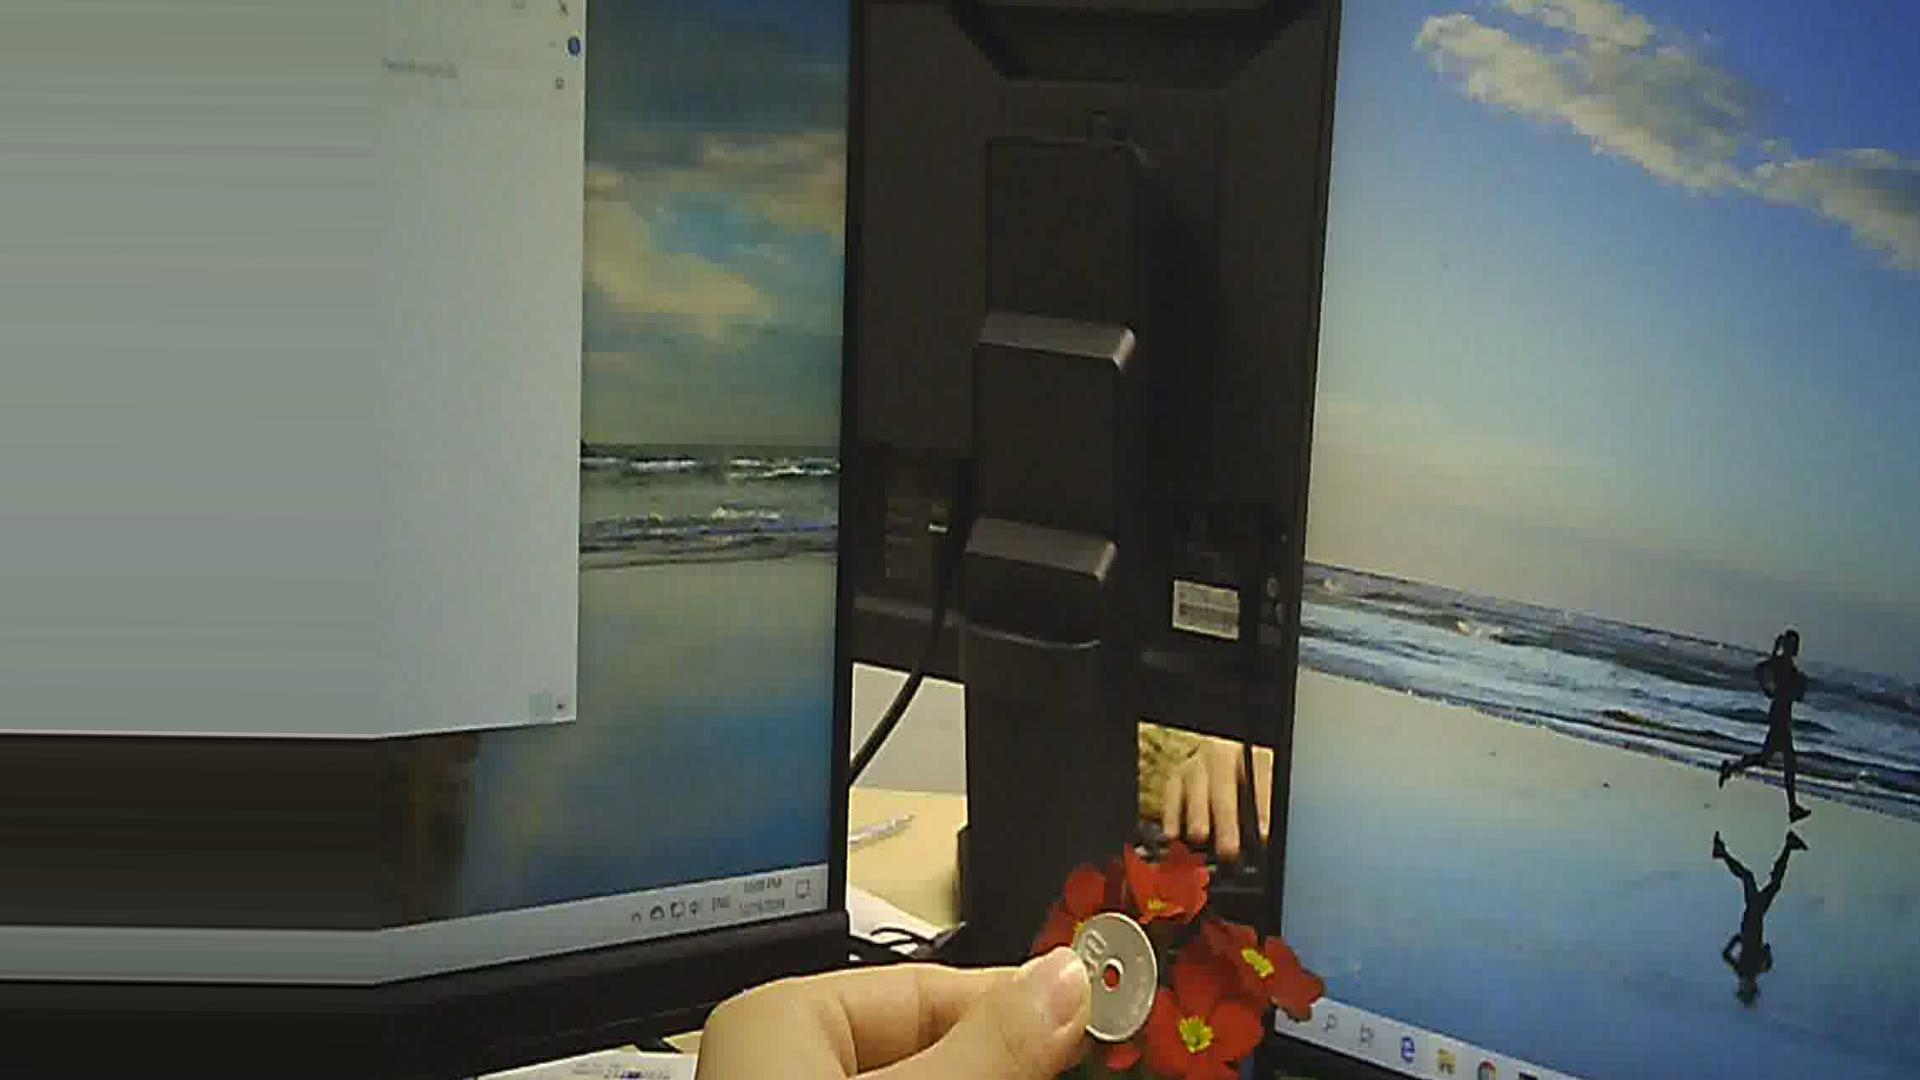50 Yen: (1059, 902, 1160, 1048)
